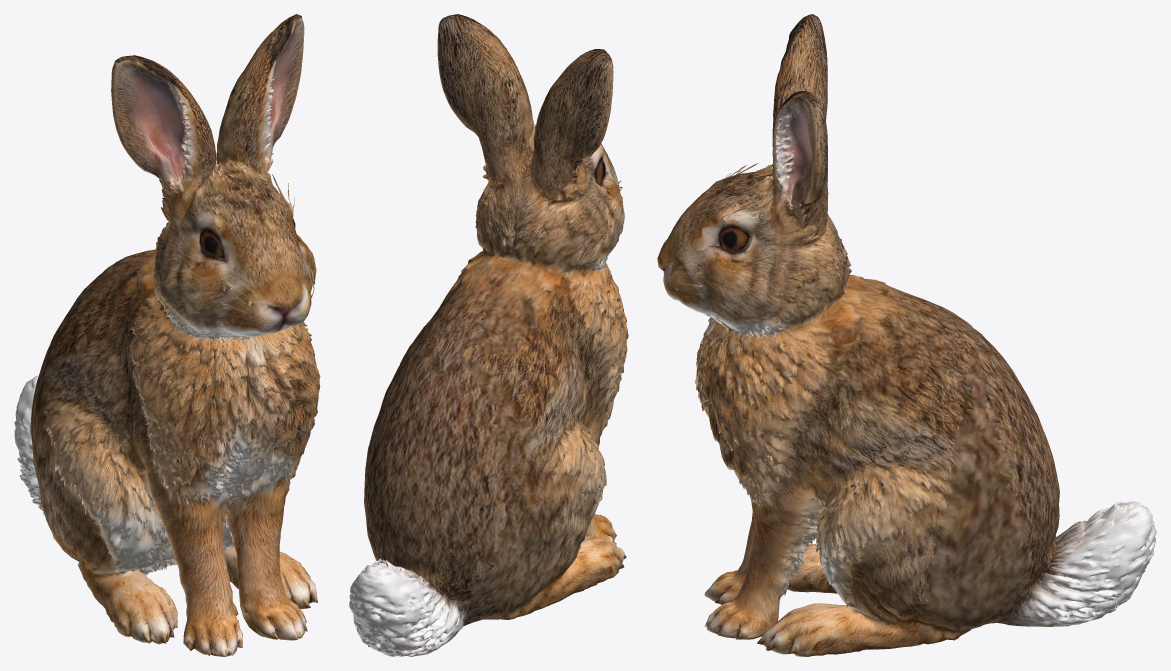
File: rabbit.glb
3 views of the same model, side by side, from view 1: azimuth 30°, elevation 25°; view 2: azimuth 150°, elevation 25°; view 3: azimuth 270°, elevation 25° (orthographic). The views are drawn at different scales.
Size of the model in its own units: 0.18 by 0.45 by 0.3641.
Materials: 1 (1 with a texture image).
